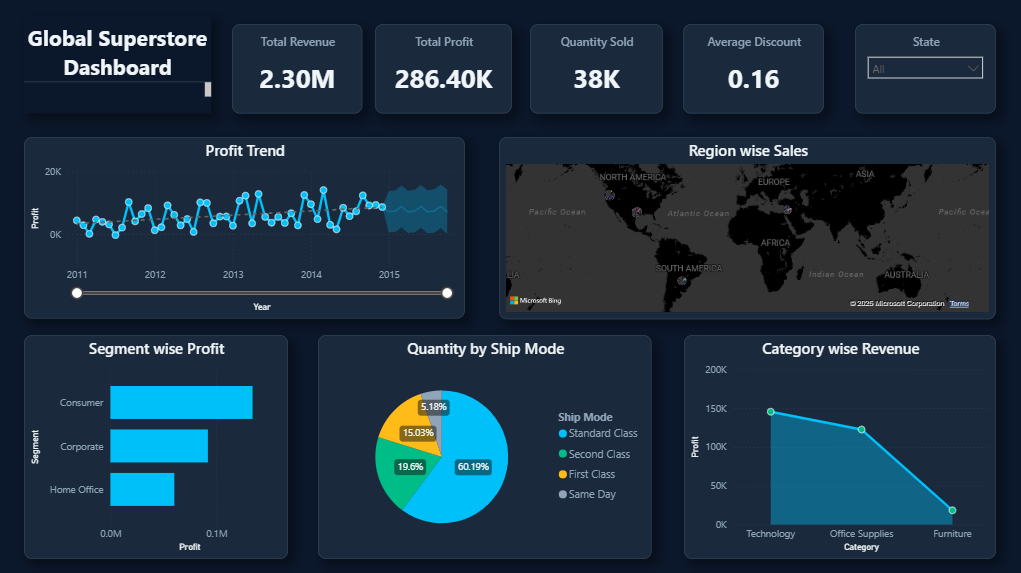

The page's visual inventory and layout, read from the dashboard file:
{"tool":"powerbi","page":{"name":"Superstore","canvas":[1280,720],"ordinal":0},"visuals":[{"type":"clusteredBarChart","title":"Segment wise Profit","fields":{"Y":["Sum(Superstore_data_convert.Profit)"],"Category":["Superstore_data_convert.Segment"]},"box":[32.9,419.5,329.7,279.7],"z":0,"group":"g1"},{"type":"pieChart","title":"Quantity by Ship Mode","fields":{"Y":["Sum(Superstore_data_convert.Quantity)","select"],"Category":["Superstore_data_convert.Ship Mode"]},"box":[400.2,419.5,417.4,279.7],"z":1000,"group":"g1"},{"type":"stackedAreaChart","title":"Category wise Revenue","fields":{"Category":["Superstore_data_convert.Category"],"Y":["Sum(Superstore_data_convert.Profit)"]},"box":[857.6,419.4,390,280],"z":2000,"group":"g1"},{"type":"lineChart","title":"Profit Trend","fields":{"Y":["Sum(Superstore_data_convert.Profit)"],"Category":["Superstore_data_convert.Order Date.Variation.Date Hierarchy.Year","Superstore_data_convert.Order Date.Variation.Date Hierarchy.Quarter","Superstore_data_convert.Order Date.Variation.Date Hierarchy.Month"]},"box":[32.9,172.2,551,227.5],"z":3000,"group":"g1"},{"type":"map","title":"Region wise Sales","fields":{"Size":["Sum(Superstore_data_convert.Sales)"],"Category":["Superstore_data_convert.Region"],"Series":["Superstore_data_convert.Sales"]},"box":[626.4,171.9,621.2,227.5],"z":4000,"group":"g1"},{"type":"card","title":"Total Revenue","fields":{"Values":["Sum(Superstore_data_convert.Sales)"]},"box":[292.7,31.3,162.8,111.7],"z":5000,"group":"g1"},{"type":"card","title":"Total Profit","fields":{"Values":["Sum(Superstore_data_convert.Profit)"]},"box":[471.2,31.3,171.1,111.7],"z":6000,"group":"g1"},{"type":"card","title":"Quantity Sold","fields":{"Values":["Sum(Superstore_data_convert.Quantity)"]},"box":[665.2,31.3,165.9,111.7],"z":7000,"group":"g1"},{"type":"card","title":"Average Discount","fields":{"Values":["Avg(Superstore_data_convert.Discount)"]},"box":[857.2,31.3,176.3,111.7],"z":8000,"group":"g1"},{"type":"slicer","title":"State","fields":{"Values":["Superstore_data_convert.State"]},"box":[1071.2,31.3,176.3,111.7],"z":9000,"group":"g1"},{"type":"textbox","title":"Global Superstore Dashboard","box":[33,20,234,122.6],"z":10000,"group":"g1"},{"type":"group","id":"g1","title":"Group 1","box":[32.9,20,1214.3,678.6],"z":10001}]}

Visuals, with their boxes in screenshot pixels (x1, y1, x2, y2), scaled from the page's 1280x720 canvas onto the 1021x573 screenshot:
"Segment wise Profit" clusteredBarChart: 26,334,289,556
"Quantity by Ship Mode" pieChart: 319,334,652,556
"Category wise Revenue" stackedAreaChart: 684,334,995,557
"Profit Trend" lineChart: 26,137,466,318
"Region wise Sales" map: 500,137,995,318
"Total Revenue" card: 233,25,363,114
"Total Profit" card: 376,25,512,114
"Quantity Sold" card: 531,25,663,114
"Average Discount" card: 684,25,824,114
"State" slicer: 854,25,995,114
"Global Superstore Dashboard" textbox: 26,16,213,113
"Group 1" group: 26,16,995,556
